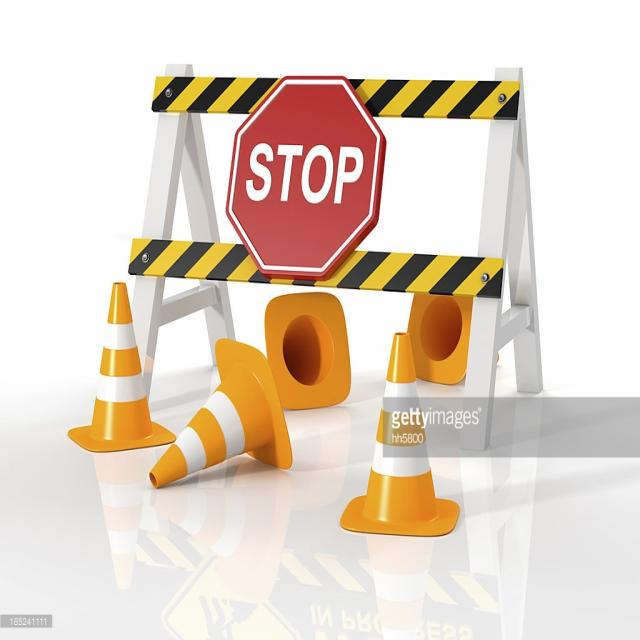cone: (342, 332, 462, 536), (148, 339, 293, 485), (66, 278, 178, 450)
